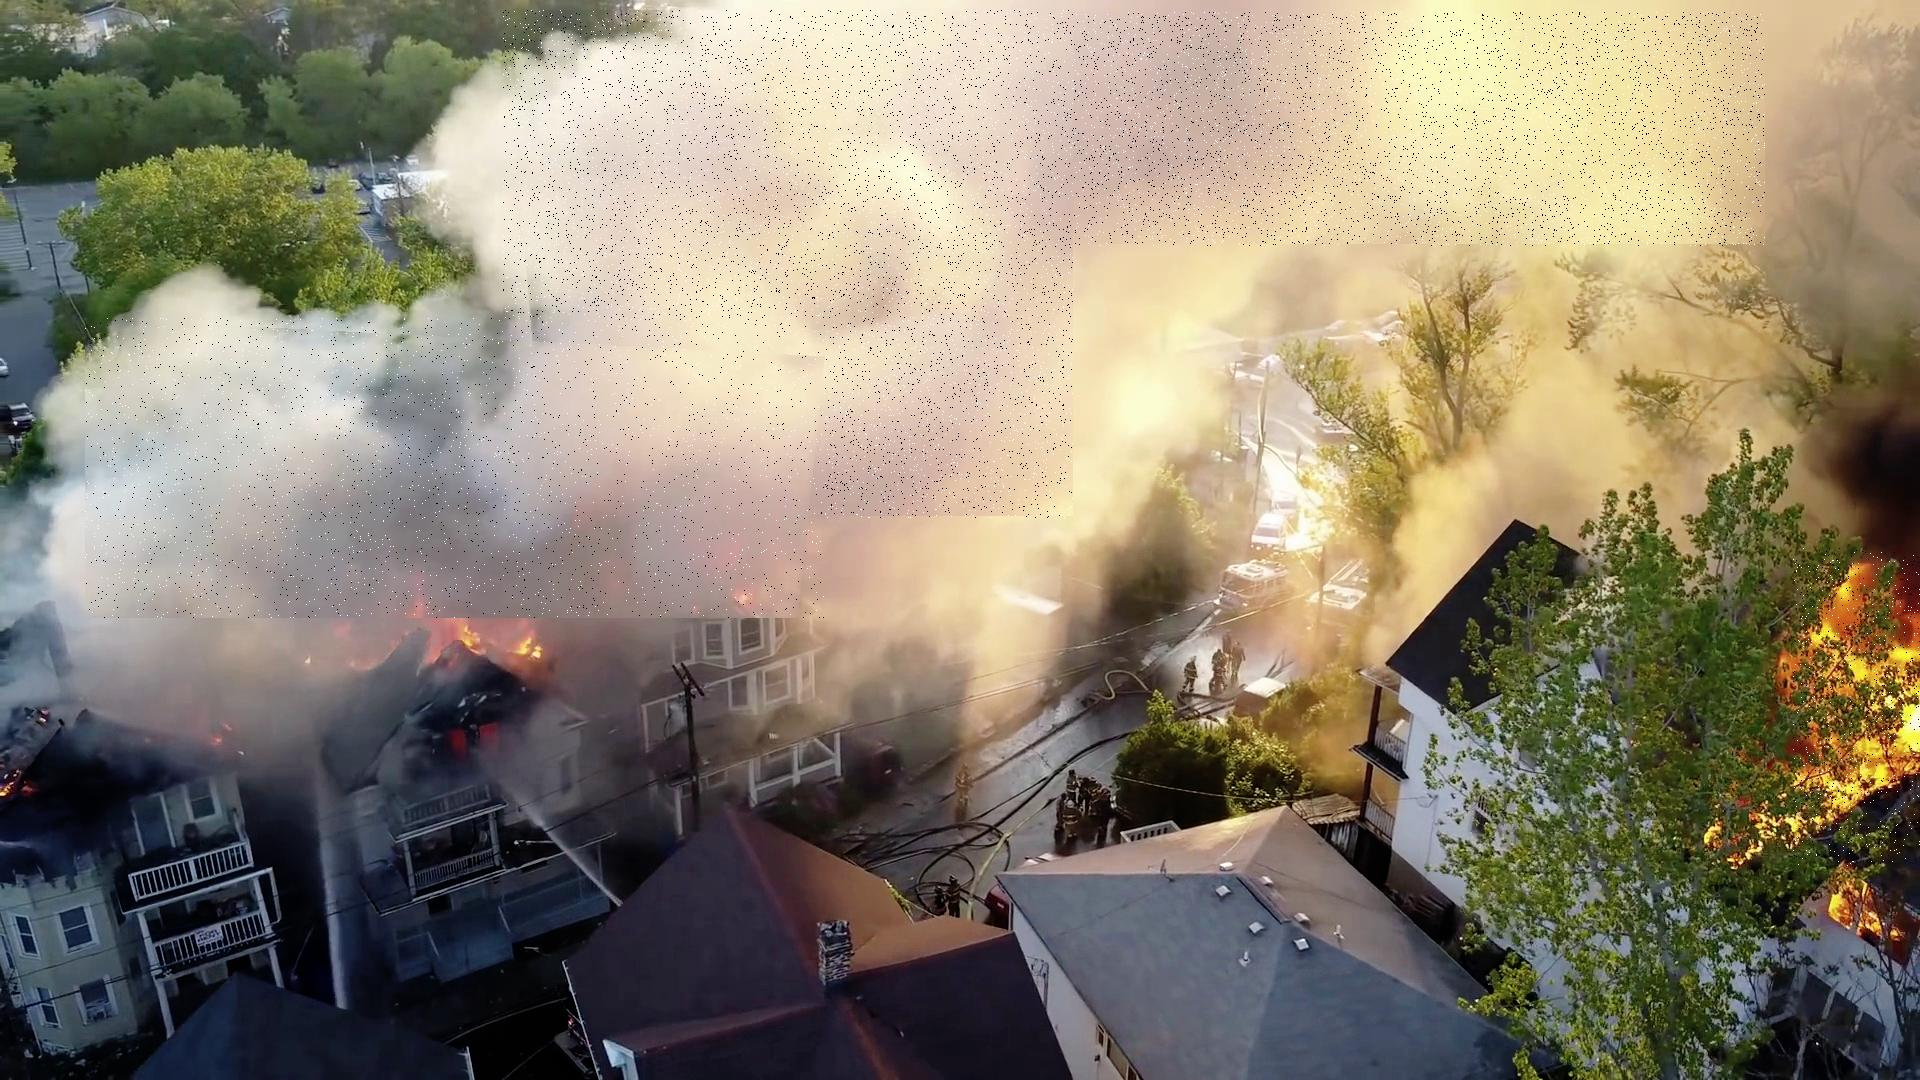fire: (1793, 548, 1920, 866)
smoke: (503, 11, 1073, 519), (710, 13, 1765, 247), (85, 318, 825, 618)
